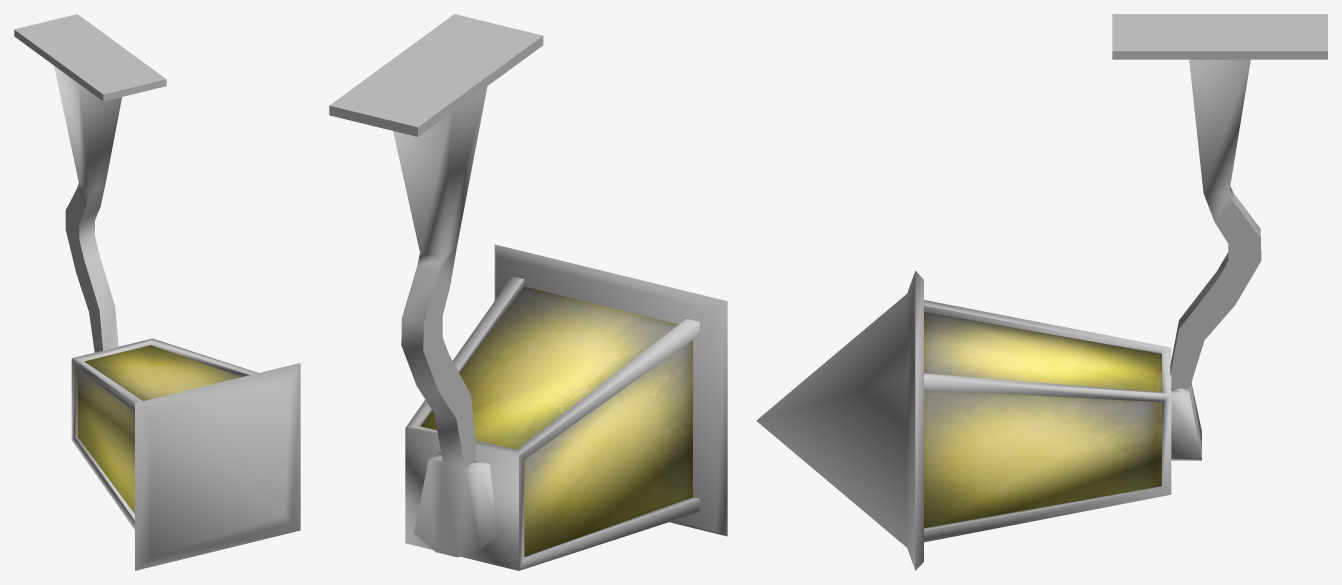
Rendered from lantern.fbx.
3 views of the same model, side by side, from view 1: azimuth 30°, elevation 25°; view 2: azimuth 150°, elevation 25°; view 3: azimuth 270°, elevation 25° (orthographic). The views are drawn at different scales.
Visible parts, largest first — view 1: object; view 2: object; view 3: object.
Part boxes in pixels (x1,y1,x2,y2): object: (14, 14, 300, 570); object: (329, 14, 727, 570); object: (756, 14, 1327, 570).
Bounding box in the file's own units: 11.42 × 26.59 × 28.2.
